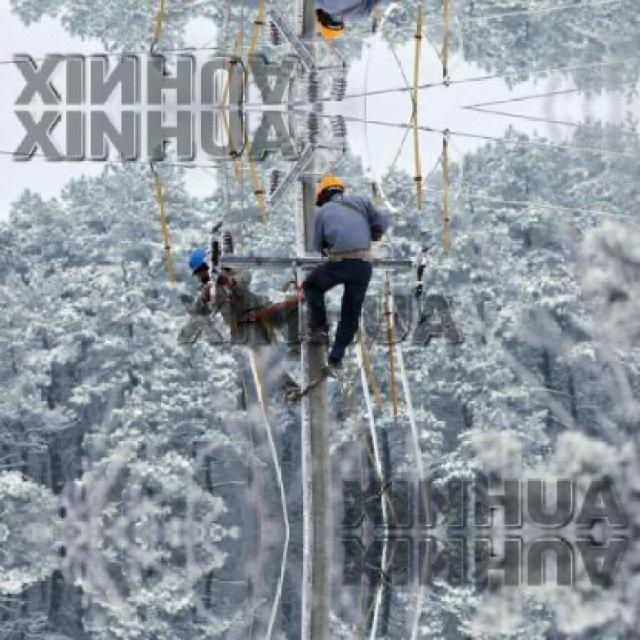Arnes_seguridad: (321, 247, 374, 264)
